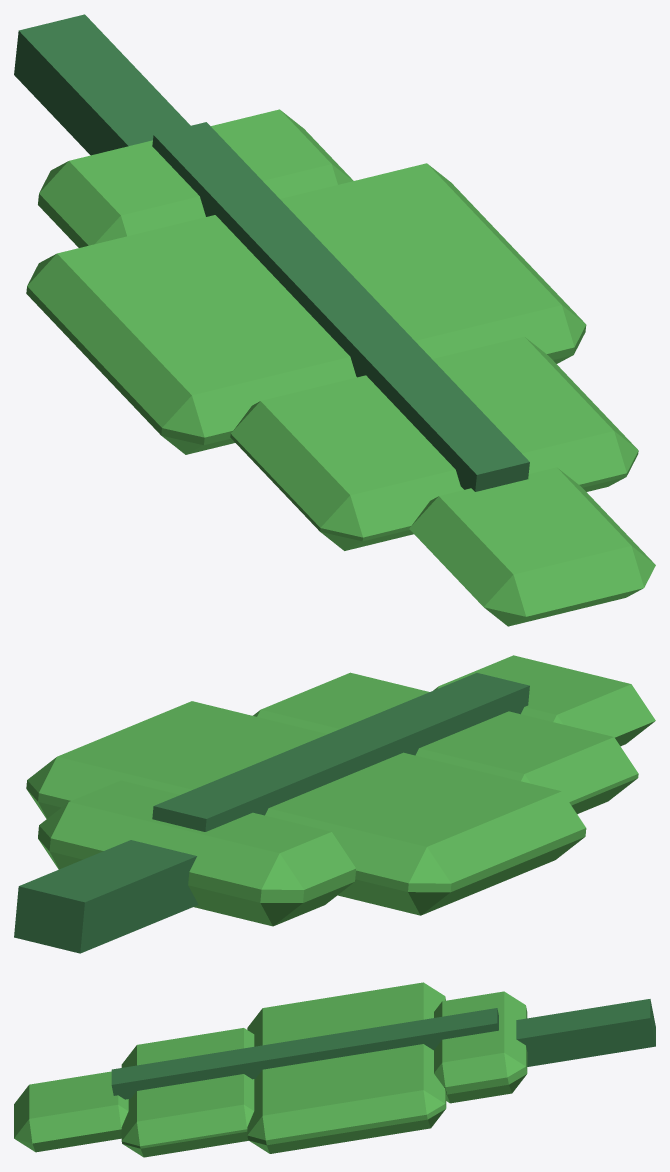
The model's file is CleanACat_Prop_Leaf.fbx.
3 views of the same model, one above another, from view 1: azimuth 30°, elevation 25°; view 2: azimuth 150°, elevation 25°; view 3: azimuth 270°, elevation 25° (orthographic). The views are drawn at different scales.
Visible parts, largest first — view 1: CleanACat_Prop_Leaf; view 2: CleanACat_Prop_Leaf; view 3: CleanACat_Prop_Leaf.
Part boxes in pixels (x1,y1,x2,y2): CleanACat_Prop_Leaf: [14, 14, 655, 626]; CleanACat_Prop_Leaf: [14, 655, 655, 953]; CleanACat_Prop_Leaf: [14, 982, 655, 1157].
Bounding box in the file's own units: 0.32 × 0.1532 × 0.7029.
1 material, 1 textured.
